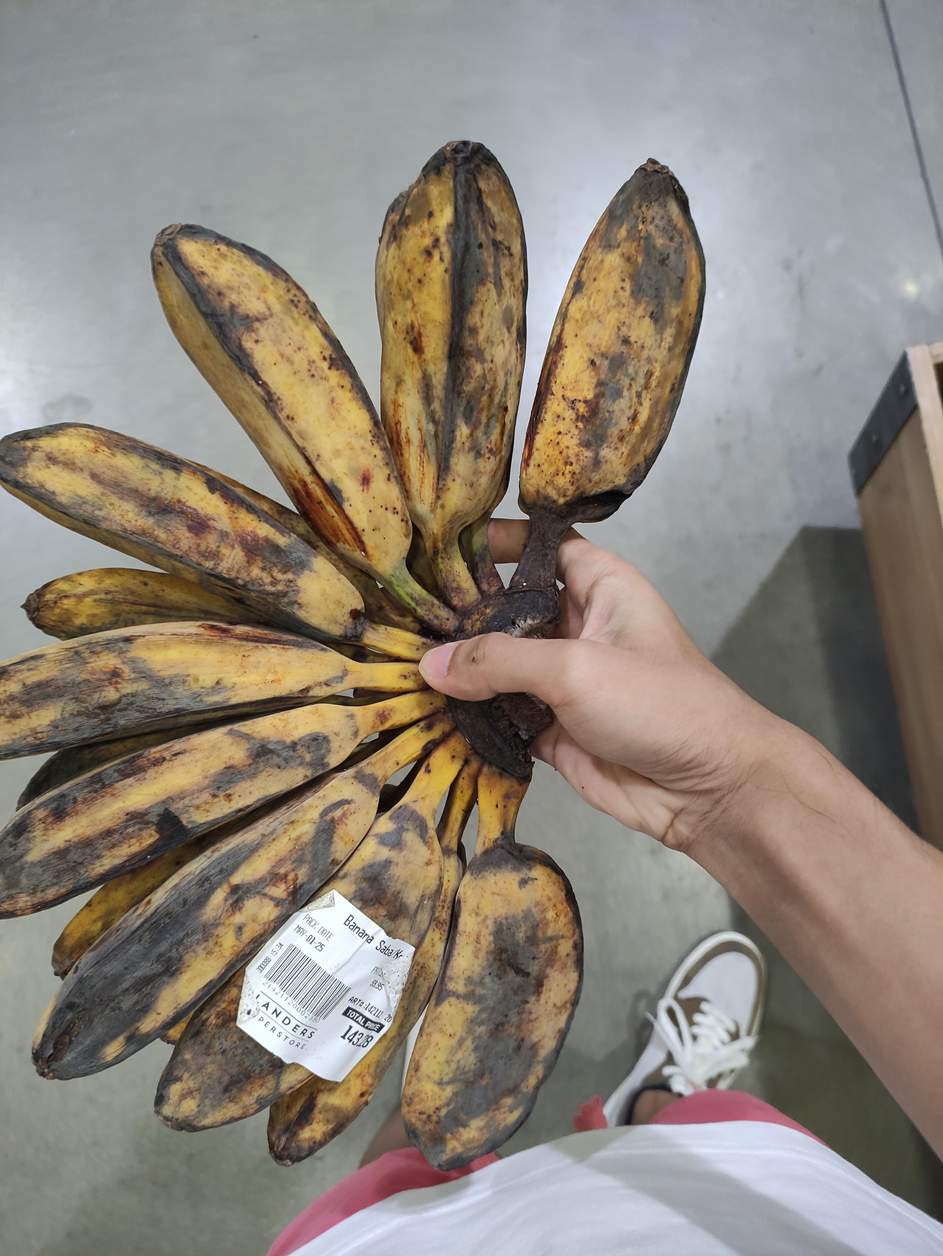ripe: (2, 142, 584, 1170)
